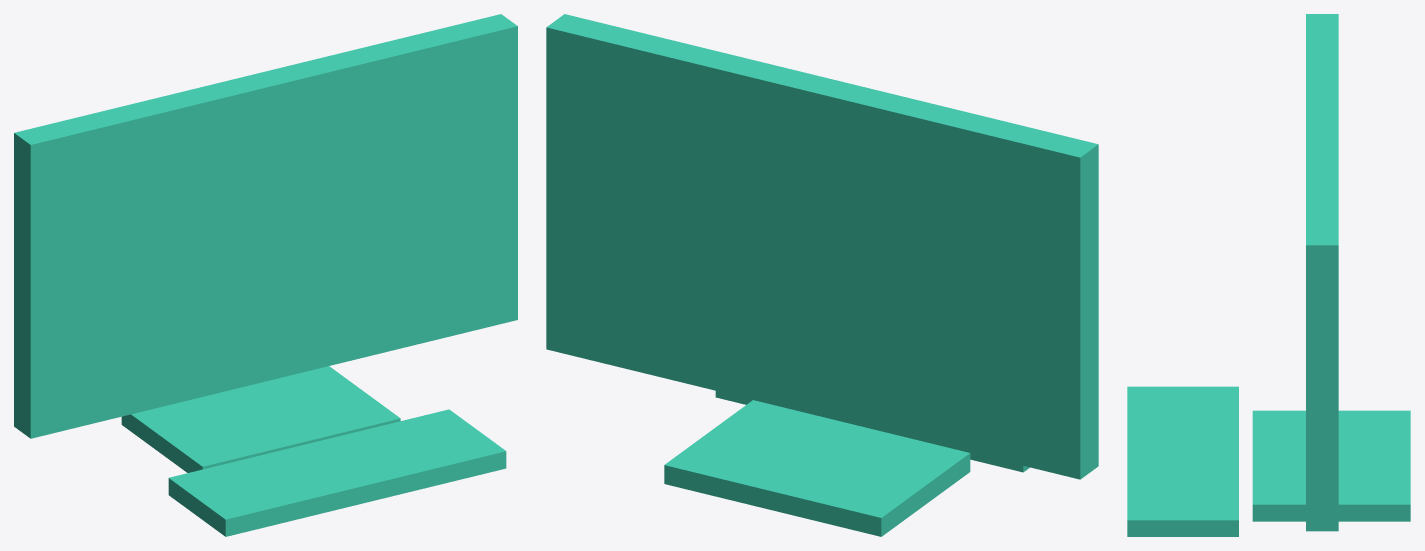
Rendered from terminal_bcra.glb.
The picture shows the model from 3 angles, left to right: view 1: azimuth 30°, elevation 25°; view 2: azimuth 150°, elevation 25°; view 3: azimuth 270°, elevation 25°; orthographic projection. The views are drawn at different scales.
Parts seen in each view (by area): view 1: terminal_bcra; view 2: terminal_bcra; view 3: terminal_bcra.
Part boxes in pixels (bbox=[...]): terminal_bcra: bbox=[14, 14, 517, 536]; terminal_bcra: bbox=[546, 14, 1098, 536]; terminal_bcra: bbox=[1127, 14, 1410, 536].
Size of the model in its own units: 1.18 by 0.82 by 0.61.
